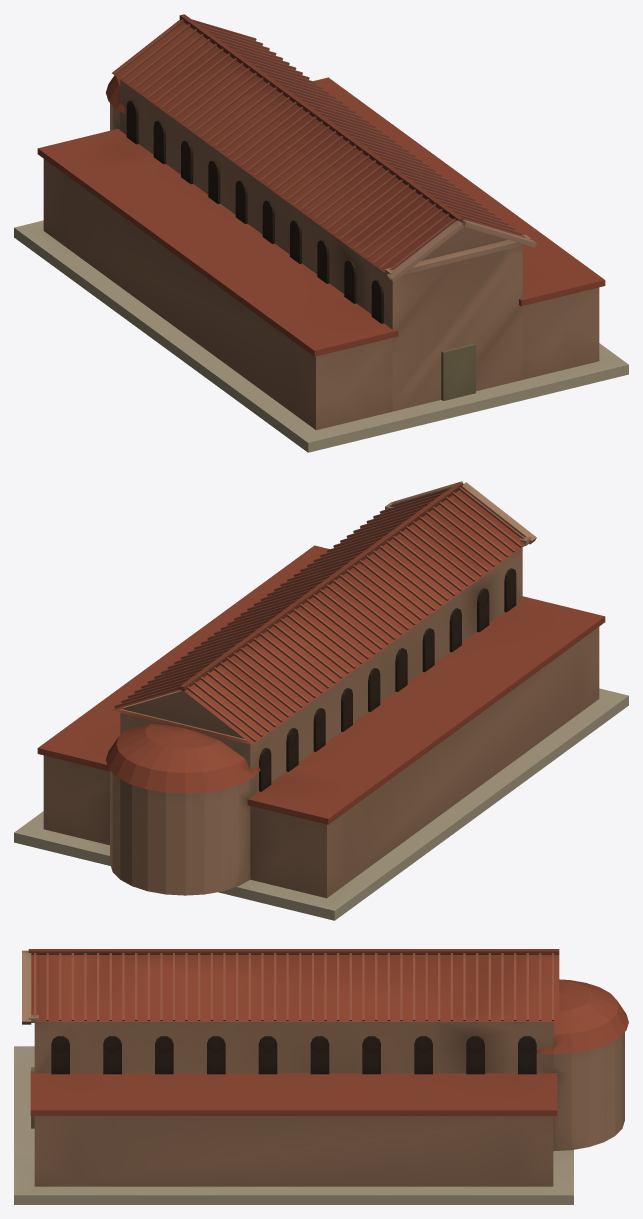
File: santa-maria-in-trastevere-early.glb
3 views of the same model, one above another, from view 1: azimuth 30°, elevation 25°; view 2: azimuth 150°, elevation 25°; view 3: azimuth 270°, elevation 25° (orthographic). The views are drawn at different scales.
Parts seen in each view (by area): view 1: p2_roofs, p1_nave, p0_base; view 2: p2_roofs, p1_nave, p0_base; view 3: p1_nave, p2_roofs, p0_base.
Boxes of the visible parts, x1,y1,x2,y2 form: p2_roofs: [37, 14, 605, 356]; p1_nave: [43, 80, 599, 430]; p0_base: [14, 220, 628, 452]; p2_roofs: [37, 481, 605, 824]; p1_nave: [43, 548, 599, 898]; p0_base: [14, 688, 628, 920]; p1_nave: [31, 1022, 624, 1186]; p2_roofs: [22, 949, 628, 1115]; p0_base: [14, 1046, 573, 1204].
Bounding box in the file's own units: 34 × 19.16 × 59.3.
